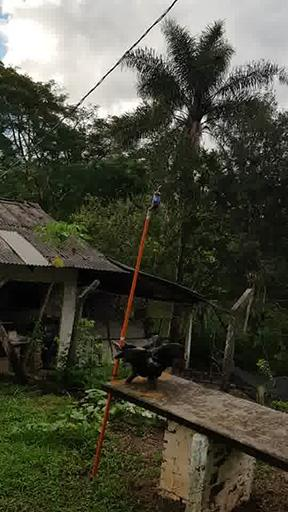Detector_Tensao_Contato: (149, 183, 162, 212)
Vara_Manobra: (92, 211, 151, 476)
